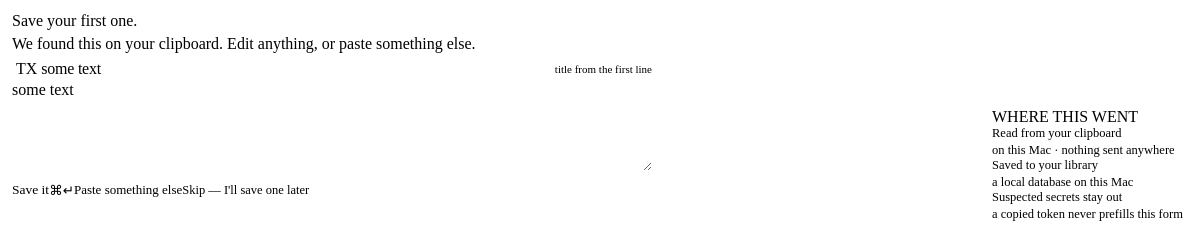
Scenario: FirstSnippetStep › reports a failed save without losing the text
This screenshot has width=1200, height=238.
Expected: the text "We found this on your clipboard" is shown, [12,35,476,52]
Click the button "Save it ⌘↵".
click(43, 190)  # box [12,171,74,209]
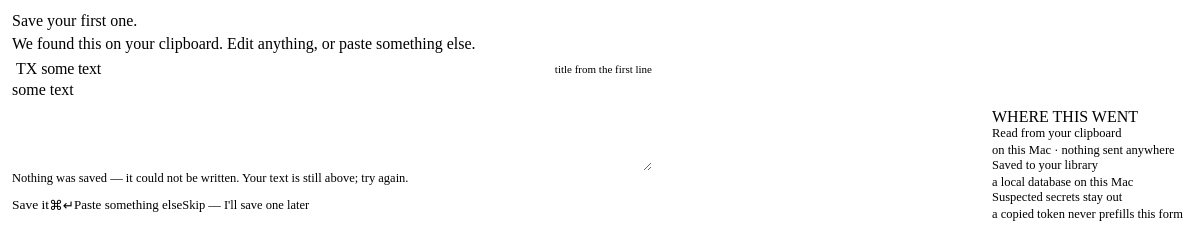
Expected: the text box named "Snippet content" holds "some text", [12,81,652,171]
Expected: the text "Nothing was saved" is shown, [12,171,408,185]
